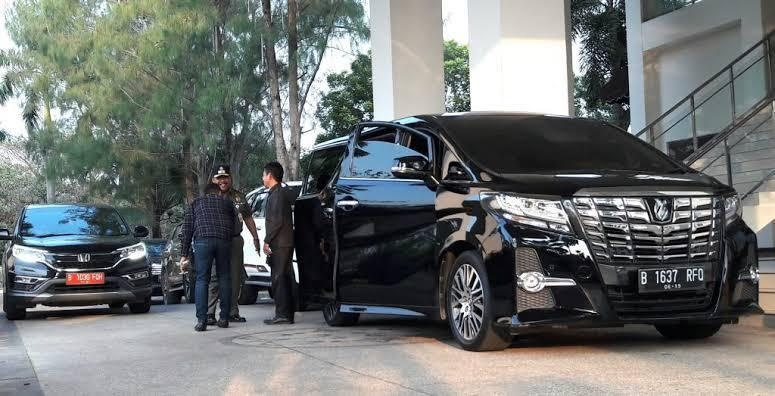plate: (637, 265, 707, 295)
